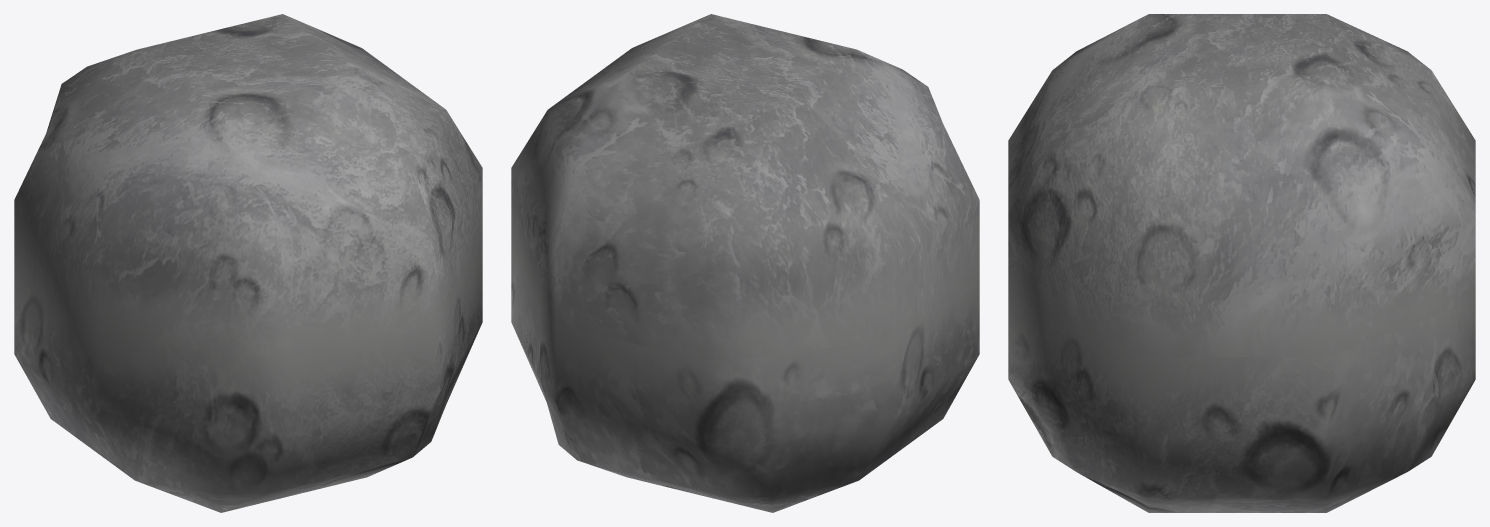
Rendered from Rock1.fbx.
3 views of the same model, side by side, from view 1: azimuth 30°, elevation 25°; view 2: azimuth 150°, elevation 25°; view 3: azimuth 270°, elevation 25° (orthographic). The views are drawn at different scales.
Visible parts, largest first — view 1: pCube1; view 2: pCube1; view 3: pCube1.
Part boxes in pixels (x1,y1,x2,y2): pCube1: [14, 14, 482, 512]; pCube1: [511, 14, 979, 512]; pCube1: [1008, 14, 1475, 512].
Bounding box in the file's own units: 158 × 158 × 158.
Materials: 1 (1 with a texture image).
